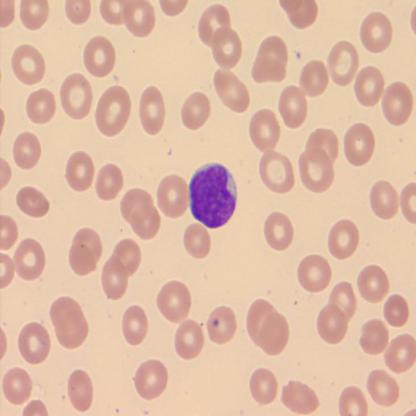Blast: (187, 158, 239, 230)
